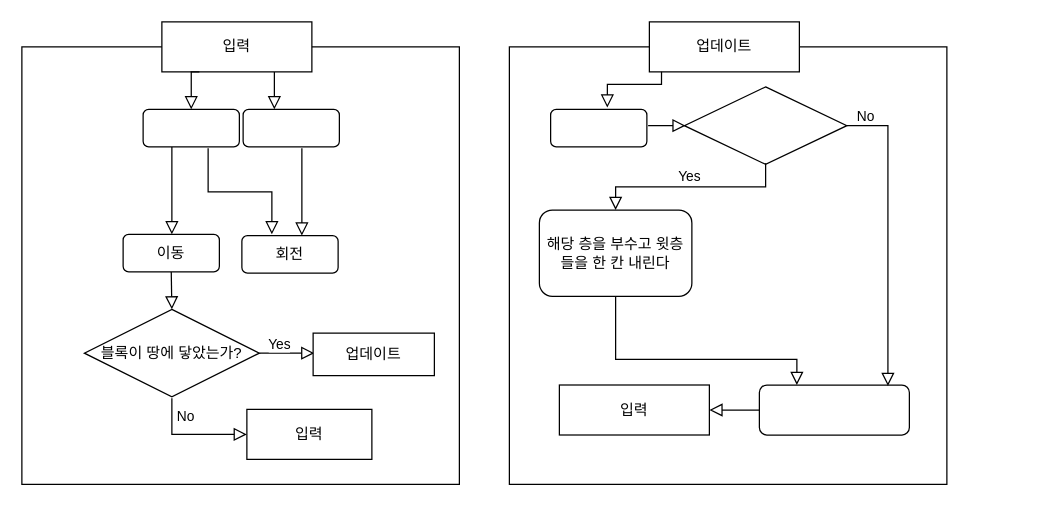
The diagram is 1044 pixels wide and 506 high, and some of its shapes have lost their labels. Here are the shapes that lost their labels. From the top down, the box of each, then its label:
(142, 108, 239, 147): 키보드
(242, 108, 339, 147): 마우스
(549, 108, 647, 147): 맵 갱신
(683, 86, 847, 164): 꽉찬 층이 있는가?
(758, 384, 909, 435): 새로운 블록 생성
